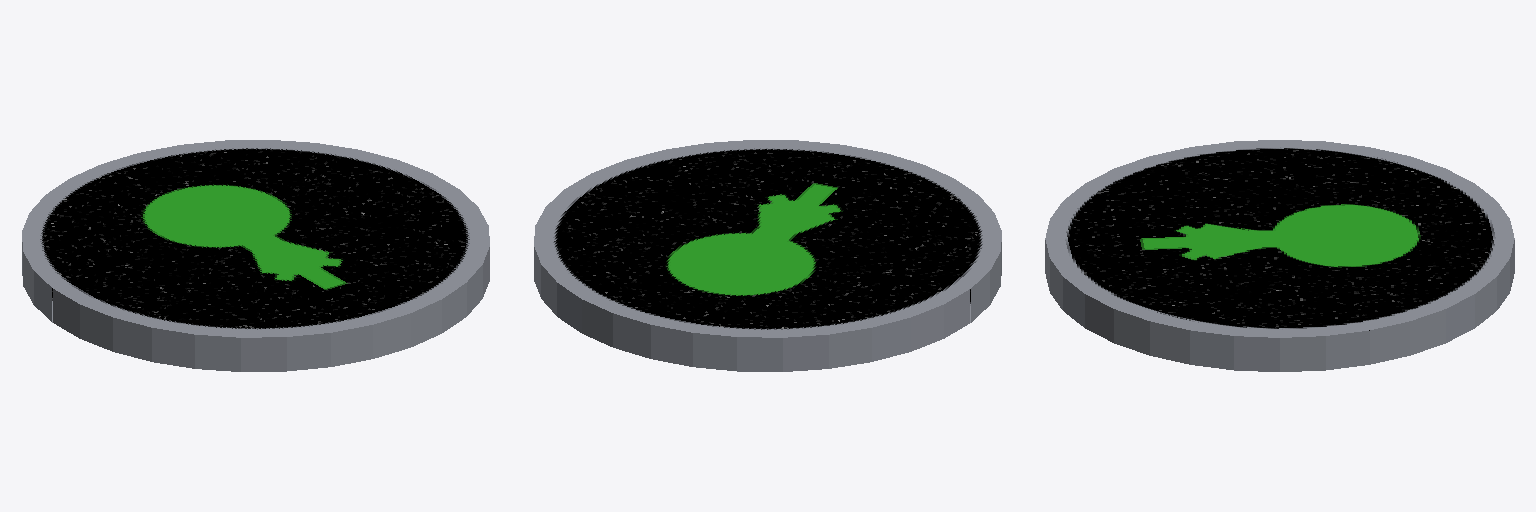
3 views of the same model, side by side, from view 1: azimuth 30°, elevation 25°; view 2: azimuth 150°, elevation 25°; view 3: azimuth 270°, elevation 25° (orthographic).
Visible parts, largest first — view 1: Cylinder; view 2: Cylinder; view 3: Cylinder.
Part boxes in pixels (left/top/right/bottom): Cylinder: left=22, top=140, right=489, bottom=371; Cylinder: left=534, top=140, right=1001, bottom=371; Cylinder: left=1045, top=140, right=1514, bottom=371.
Bounding box in the file's own units: 0.8247 × 0.0667 × 0.8247.
1 materials, 1 textured.